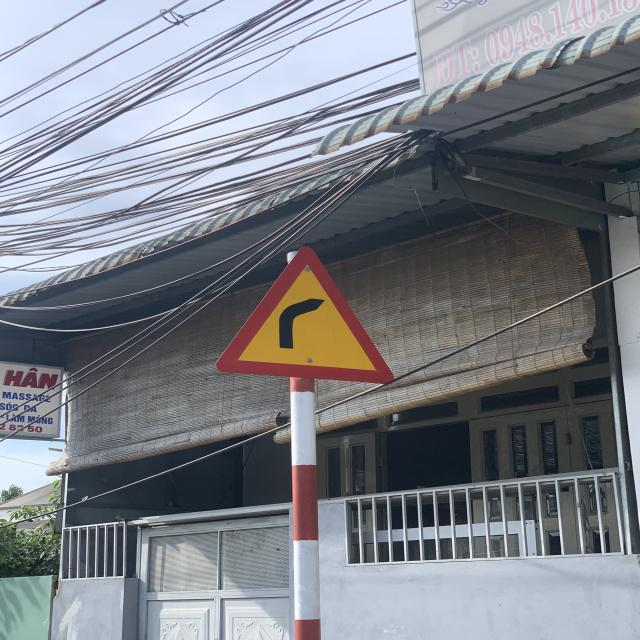Duong_Nguoi_Di_Bo_Cat_Ngang: (213, 246, 397, 384)
